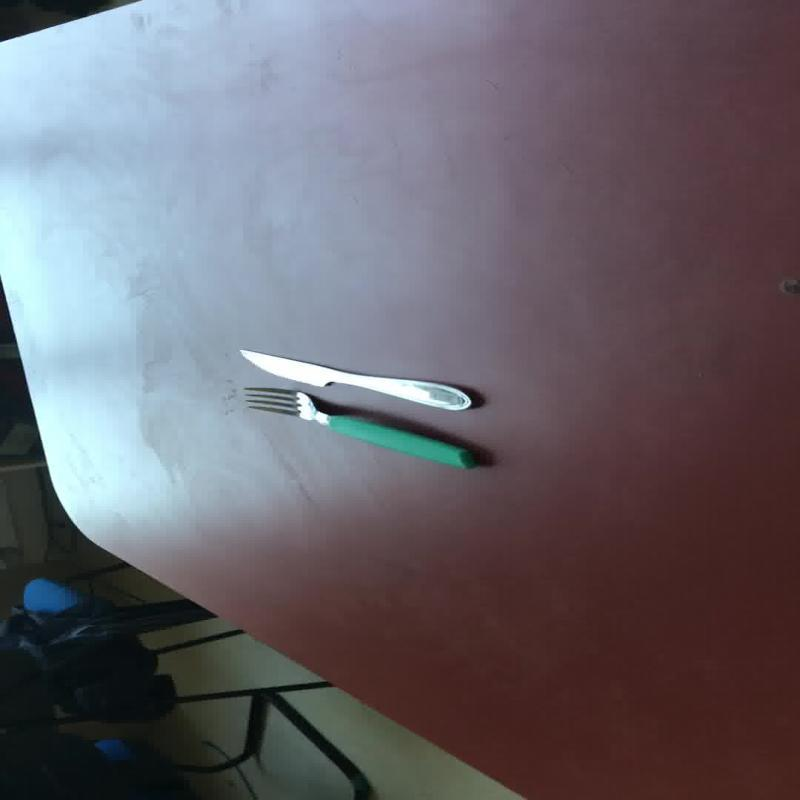fork: (242, 386, 476, 469)
knife: (236, 347, 472, 411)
